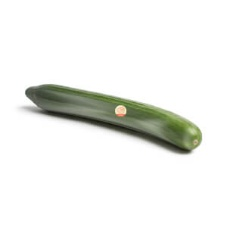cucumber: (24, 82, 204, 154)
